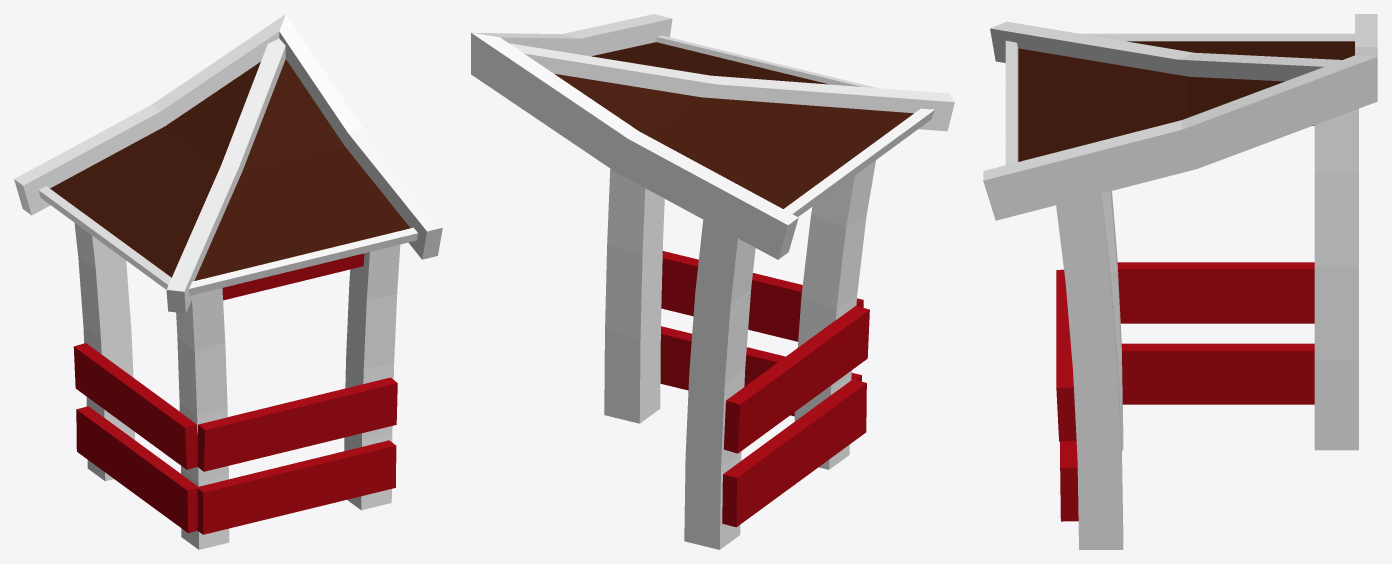
Rendered from Animal_Shed_Corner_FULL (2).fbx.
3 renders of one model, left to right at view 1: azimuth 30°, elevation 25°; view 2: azimuth 150°, elevation 25°; view 3: azimuth 270°, elevation 25°, orthographic. The views are drawn at different scales.
Parts seen in each view (by area): view 1: Corner_Out_L.003; view 2: Corner_Out_L.003; view 3: Corner_Out_L.003.
Part boxes in pixels (bbox=[...]): Corner_Out_L.003: bbox=[14, 14, 442, 549]; Corner_Out_L.003: bbox=[471, 14, 954, 549]; Corner_Out_L.003: bbox=[983, 14, 1377, 549].
Bounding box in the file's own units: 134 × 188 × 134.
